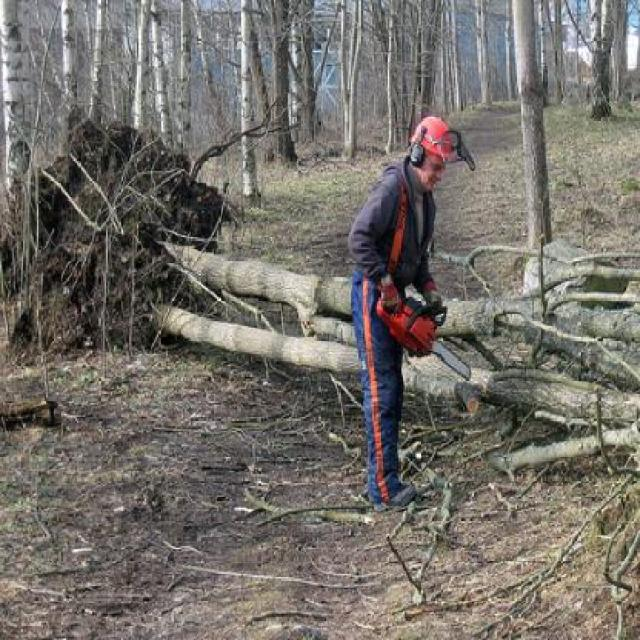Chainsaw: (376, 283, 473, 379)
